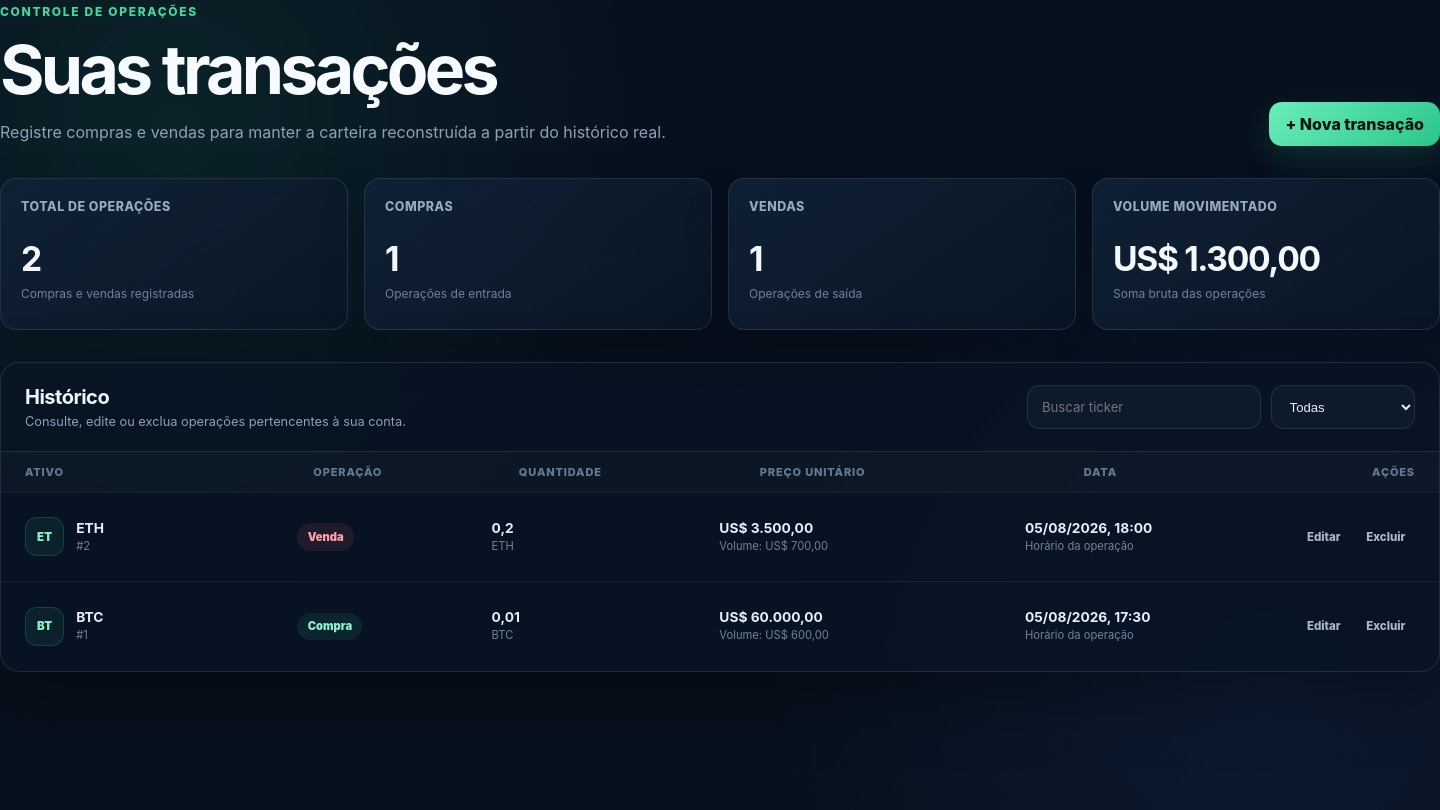
it: TransactionsPage › edita uma transação existente
Click the button with aria-label "Editar transação de BTC" at (1324,626), box [1297,612,1350,642]
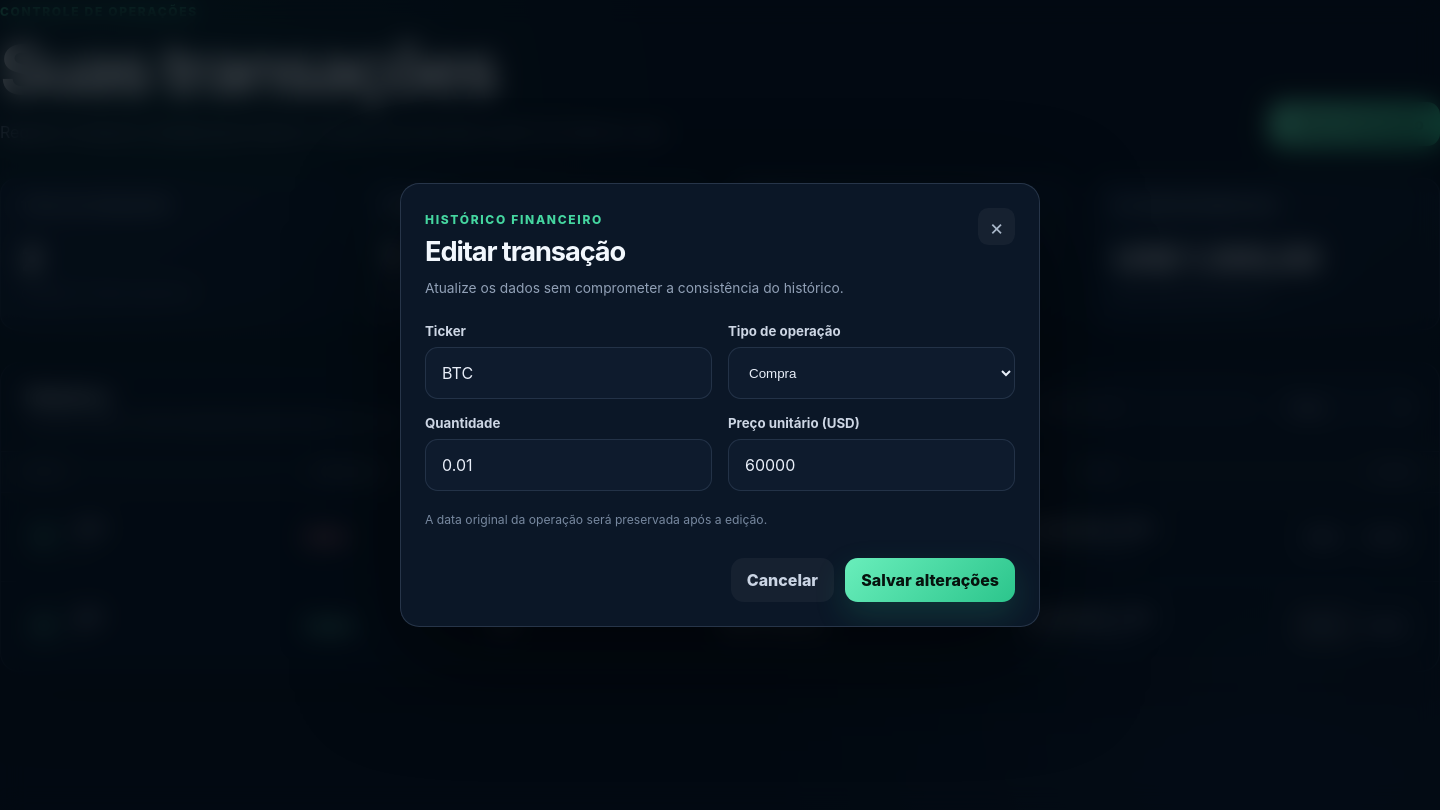
Replace the text in the number field labelled "Quantidade" with "0.02" at (568,465), box [425,439,712,491]
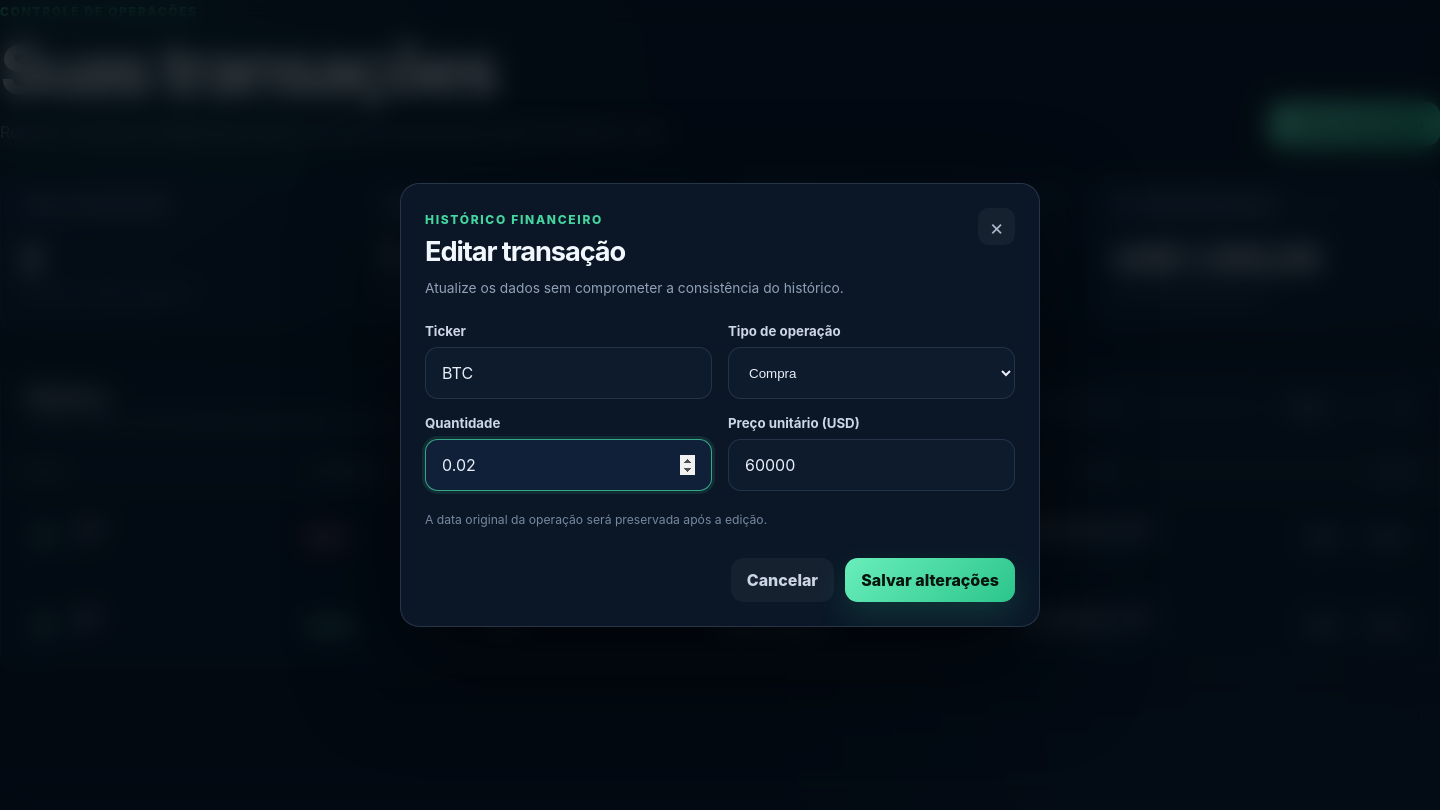
Replace the text in the number field labelled "Preço unitário (USD)" with "62000" at (872,465), box [728,439,1015,491]
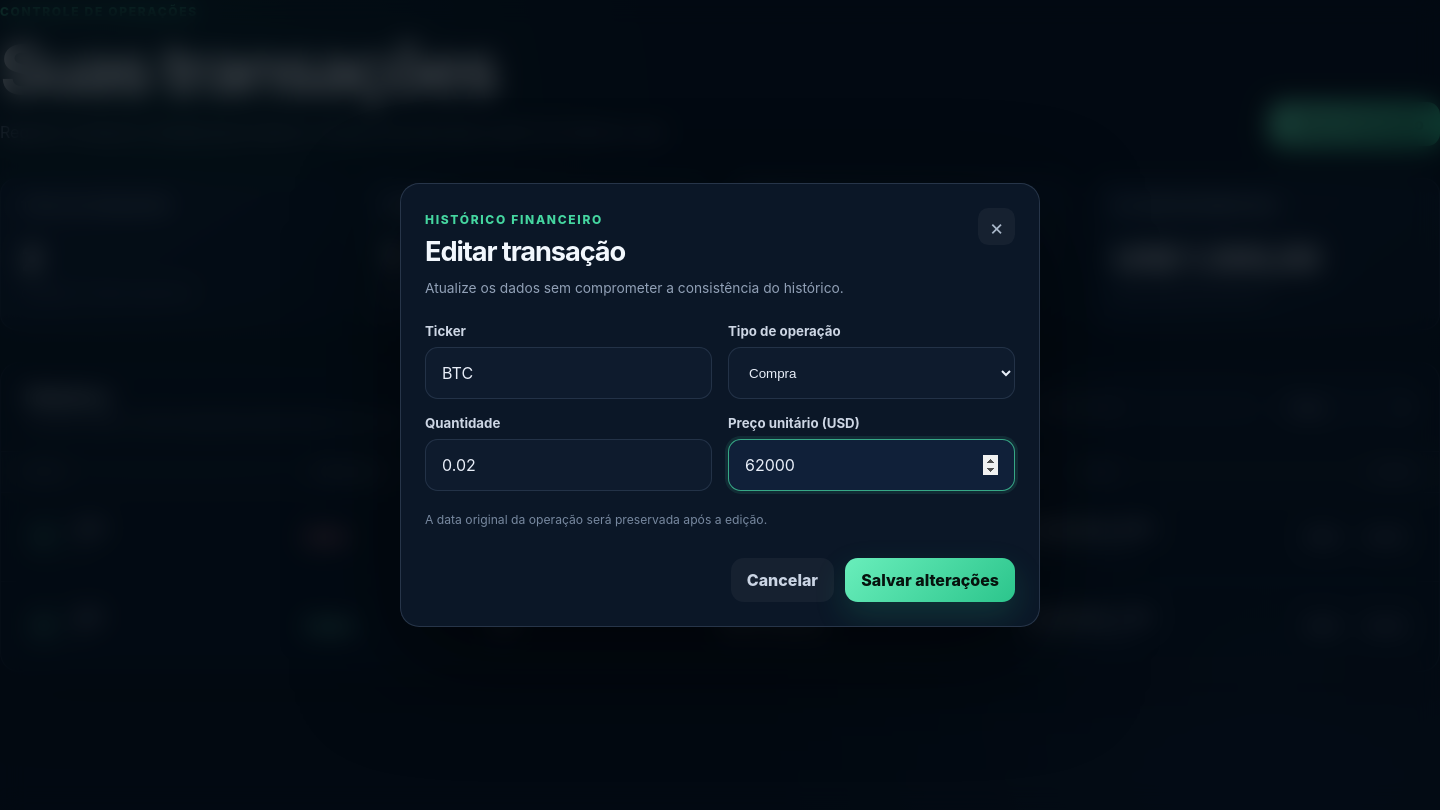
Click the button "Salvar alterações" at (930,580), box [845,558,1015,602]
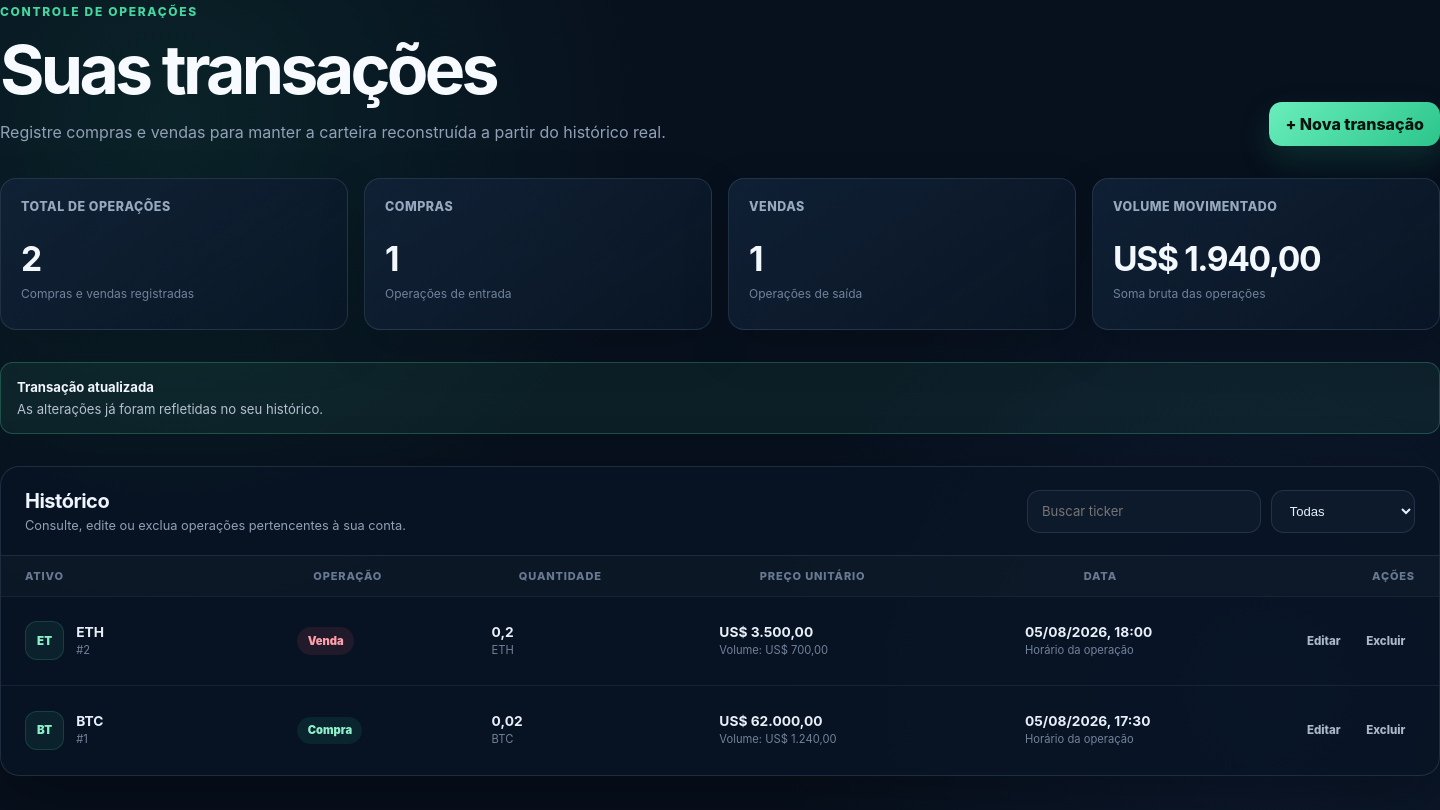
Expected: the text "Transação atualizada" is shown, [17,379,154,395]
